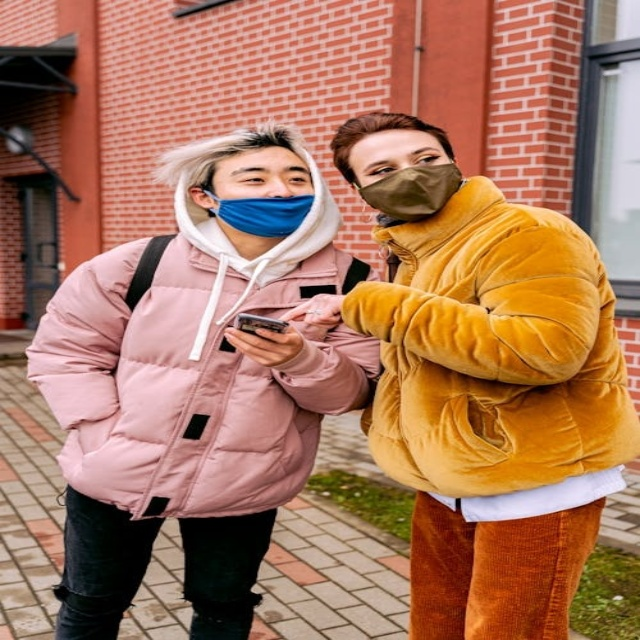Mascara: (355, 162, 463, 220), (202, 191, 315, 237)
Sin_gafas: (352, 144, 448, 178), (215, 162, 314, 186)
Sin_guantes: (219, 319, 308, 369), (280, 287, 353, 329)
